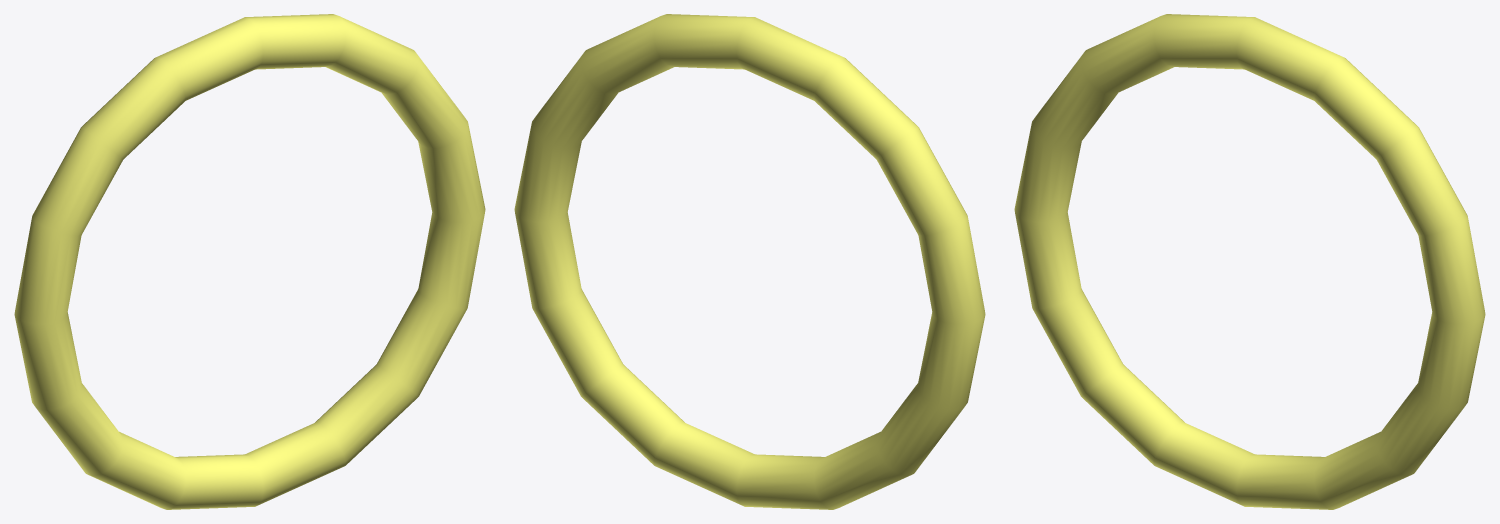
The picture shows the model from 3 angles, left to right: view 1: azimuth 30°, elevation 25°; view 2: azimuth 150°, elevation 25°; view 3: azimuth 330°, elevation 25°; orthographic projection.
Parts seen in each view (by area): view 1: 85543.dat; view 2: 85543.dat; view 3: 85543.dat.
Boxes of the visible parts, box(x1,y1,x2,y2) form: 85543.dat: box(14, 14, 485, 509); 85543.dat: box(514, 14, 985, 509); 85543.dat: box(1014, 14, 1485, 509).
Bounding box in the file's own units: 0.0167 × 0.0167 × 0.00167.
